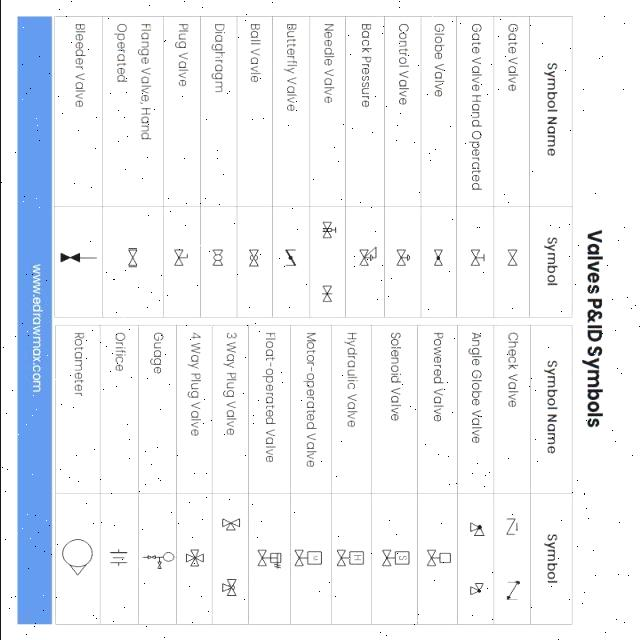3 Way Gate Valve: (217, 509, 245, 533), (219, 575, 242, 602)
4 Way Gate Valve: (180, 548, 208, 567)
Angle GlobeValve: (458, 515, 489, 544), (466, 574, 487, 600)
BackPressure Regulator: (358, 240, 378, 272)
Ball Valve: (244, 243, 264, 271), (208, 245, 229, 270)
Bleeder Valve: (57, 244, 97, 269)
Butterfly Valve: (281, 239, 302, 271)
Check Valve: (502, 577, 526, 609), (502, 510, 522, 542)
Cock Valve: (172, 240, 192, 270)
Flanged: (117, 243, 148, 272)
Float Operated Valve: (252, 542, 286, 572)
Gate Valve: (503, 246, 520, 270)
Gauge: (140, 544, 178, 572)
Globe Valve: (428, 242, 448, 270)
Hand Operated Gate Valve: (466, 240, 488, 275)
Hydraulic Operated Gate Valve: (336, 546, 366, 573)
Motor Operated Gate Valve: (292, 544, 328, 572)
Needle Valve: (319, 213, 339, 243), (317, 280, 338, 306)
Orifice: (104, 541, 132, 578)
Pneumatic-Diaphragm Gate Valve: (391, 240, 417, 273)
Powered Gate Valve: (422, 542, 452, 575)
Rotameter: (58, 532, 96, 582)
Solenoid Operated Gate Valve: (377, 544, 414, 570)
